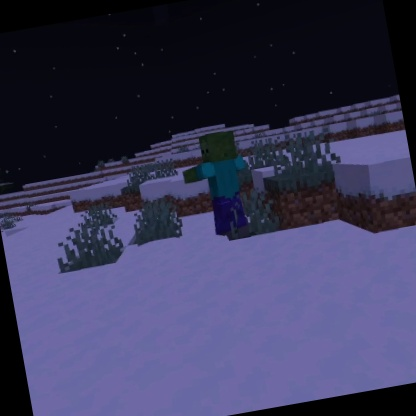zombie: (173, 125, 262, 245)
